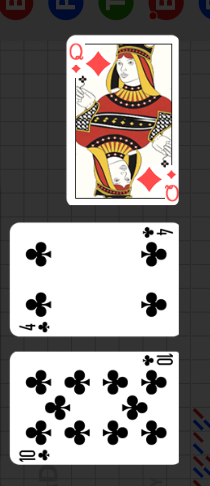10C: (18, 447, 53, 462)
4C: (140, 225, 175, 240)
9D: (68, 41, 84, 75)
